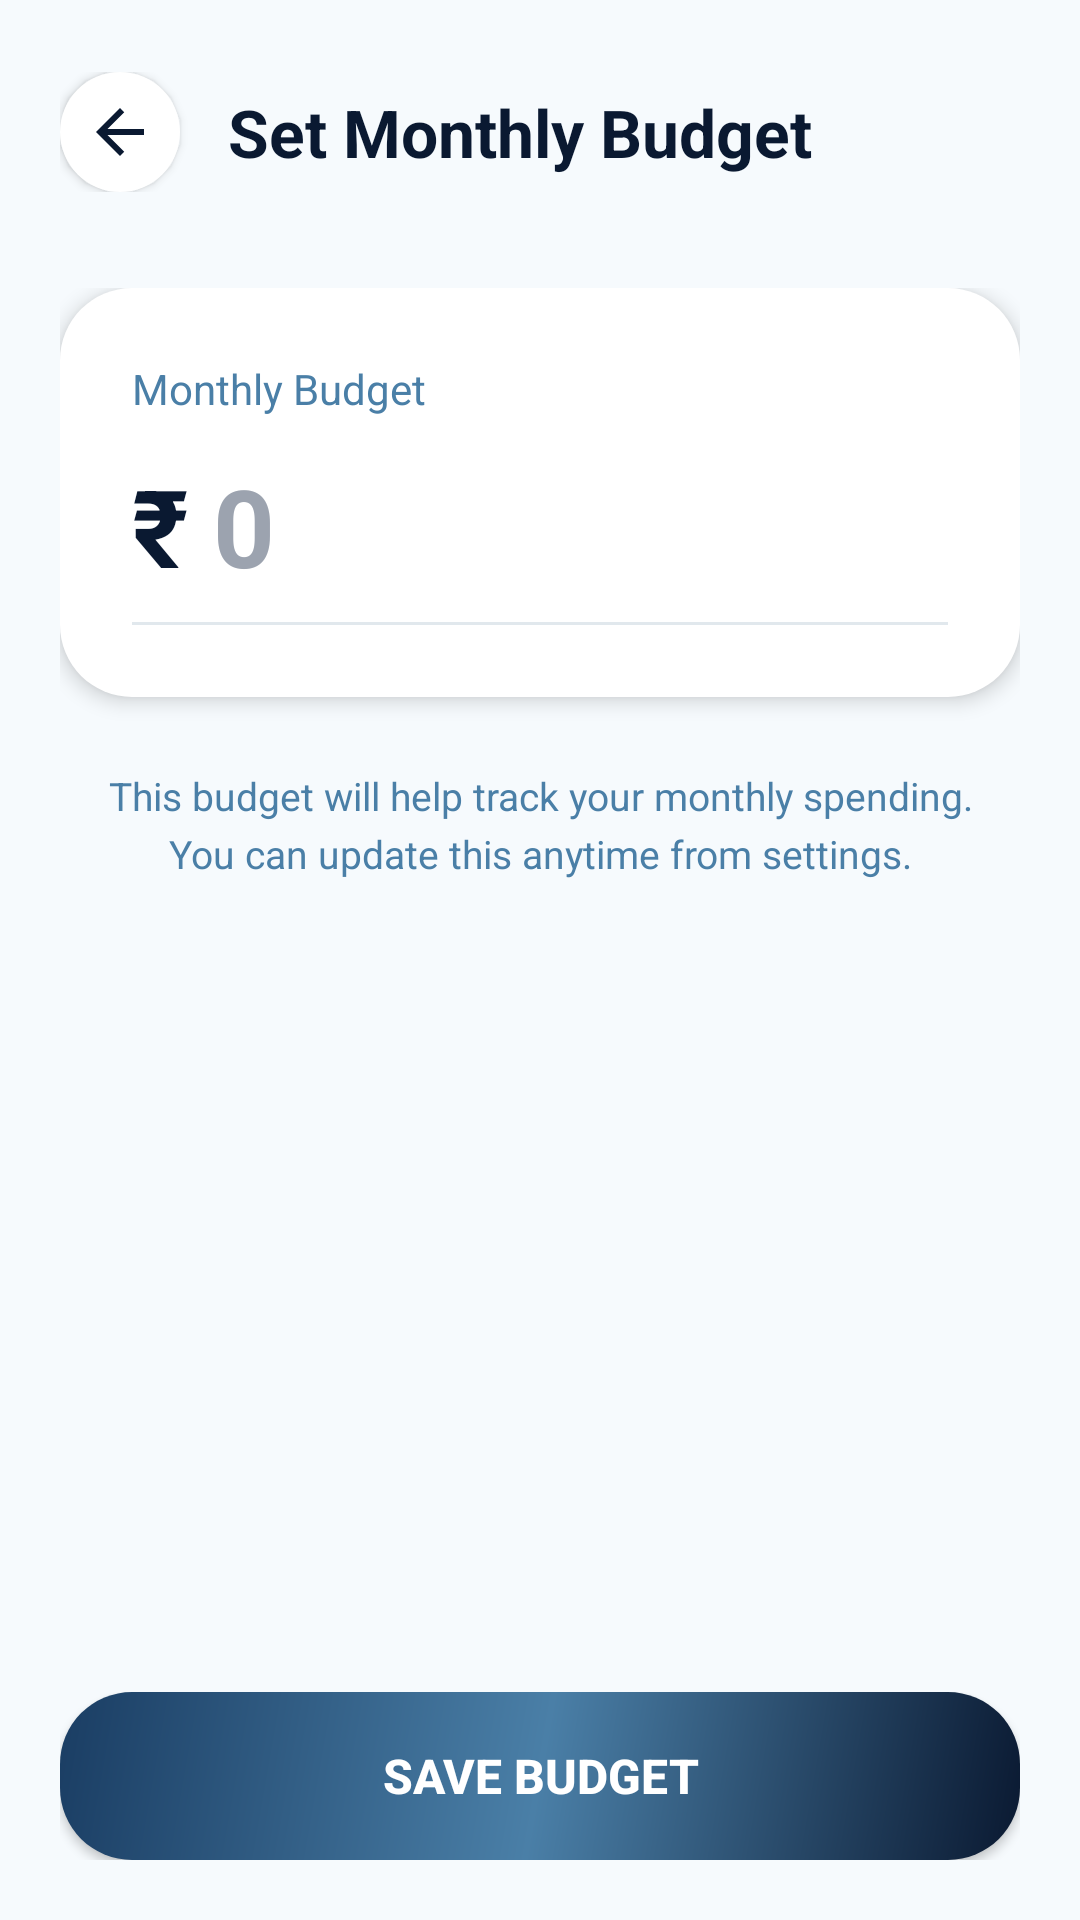

Screen size 1080w x 1920h. Icon name, then its box in pixels as detection(x1, y1, x2, y2):
back: detection(60, 72, 180, 192)
